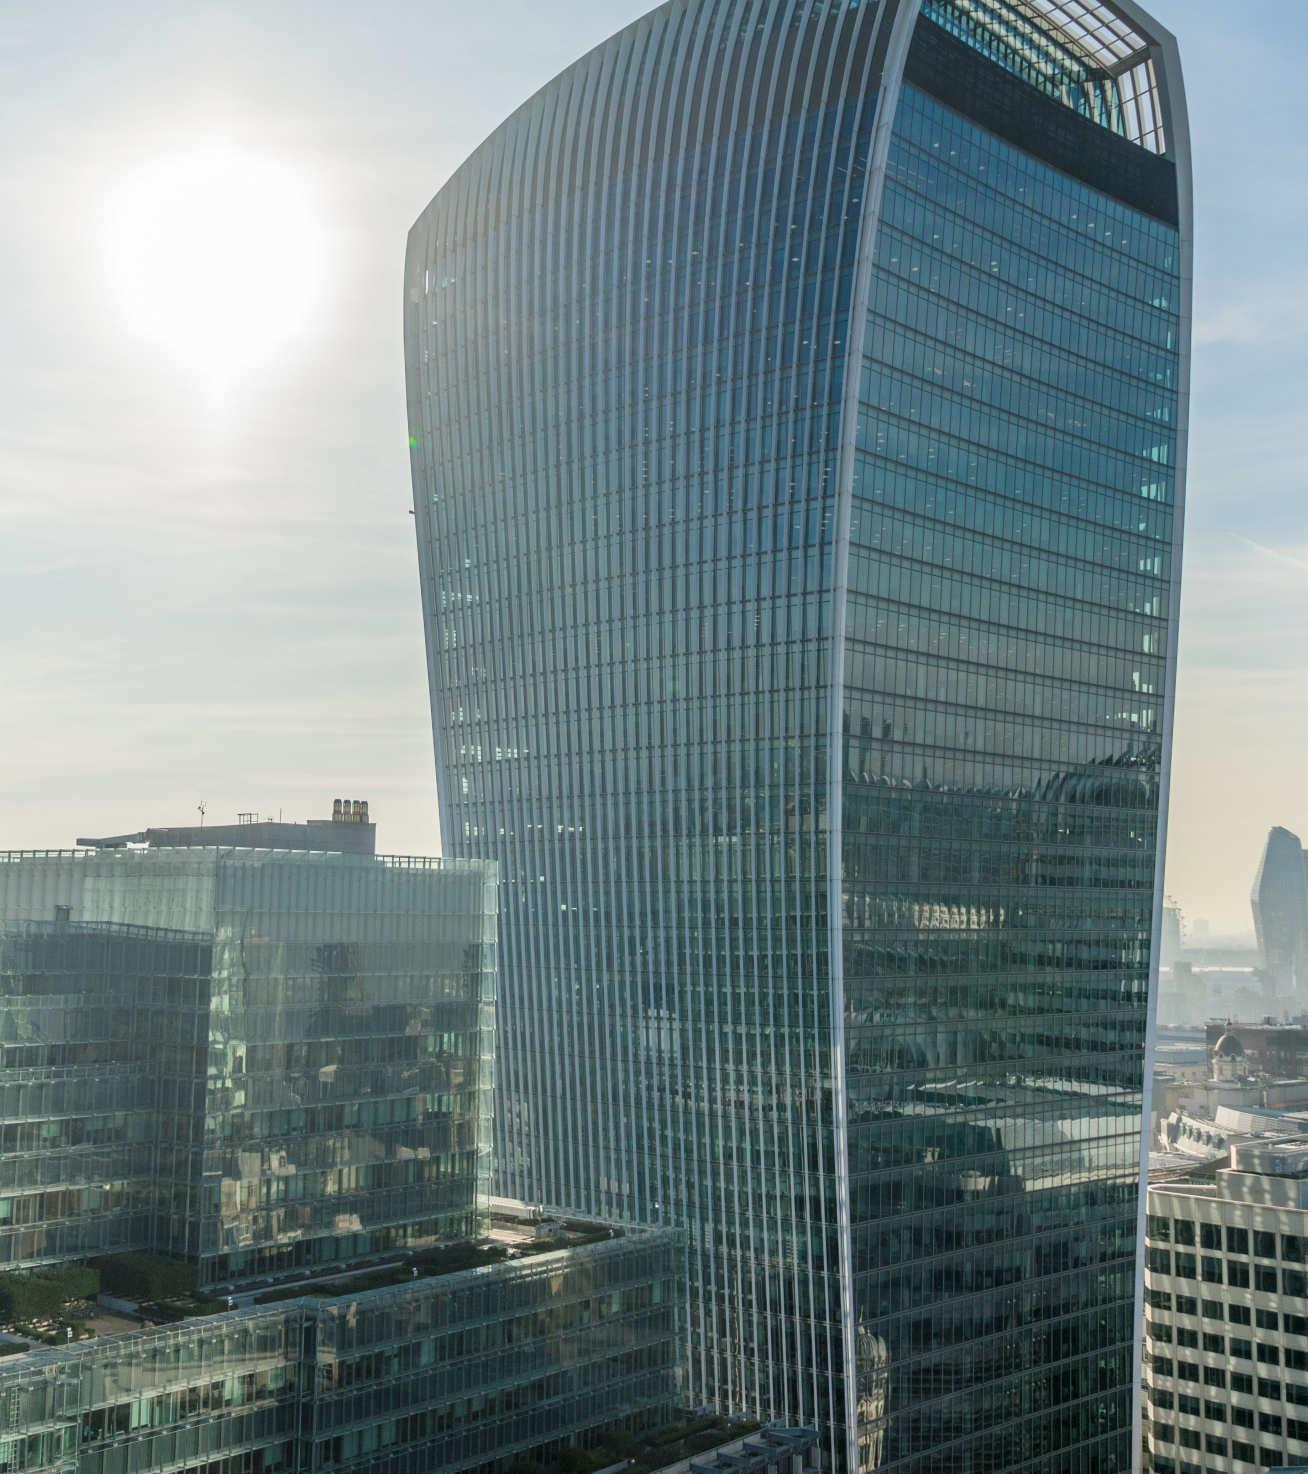Walkie talkie: (376, 5, 1231, 1357)
